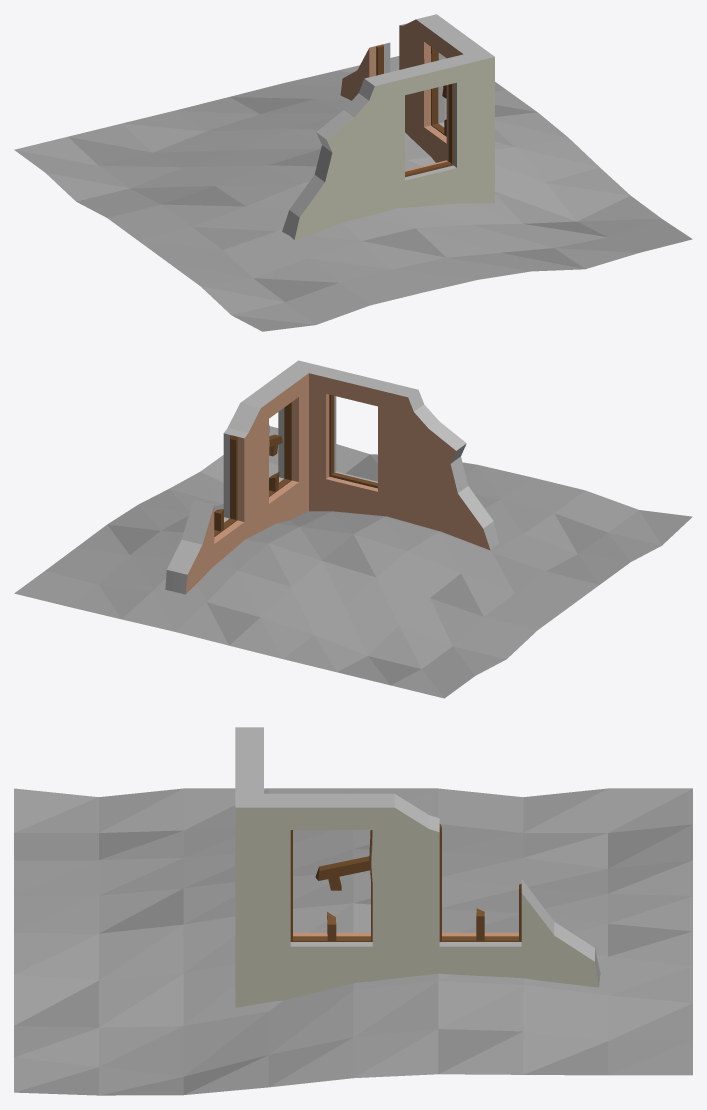
The model's file is lowpolyhousedestroyed.fbx.
The picture shows the model from 3 angles, top to bottom: view 1: azimuth 30°, elevation 25°; view 2: azimuth 150°, elevation 25°; view 3: azimuth 270°, elevation 25°; orthographic projection. The views are drawn at different scales.
Visible parts, largest first — view 1: Plane, Cube; view 2: Plane, Cube; view 3: Plane, Cube.
Part boxes in pixels (left/top/right/bottom): Plane: left=14, top=56, right=692, bottom=331; Cube: left=282, top=14, right=494, bottom=239; Plane: left=14, top=426, right=692, bottom=698; Cube: left=165, top=360, right=498, bottom=594; Plane: left=14, top=788, right=692, bottom=1095; Cube: left=235, top=727, right=600, bottom=1007.
Size of the model in its own units: 973 by 359 by 973.
